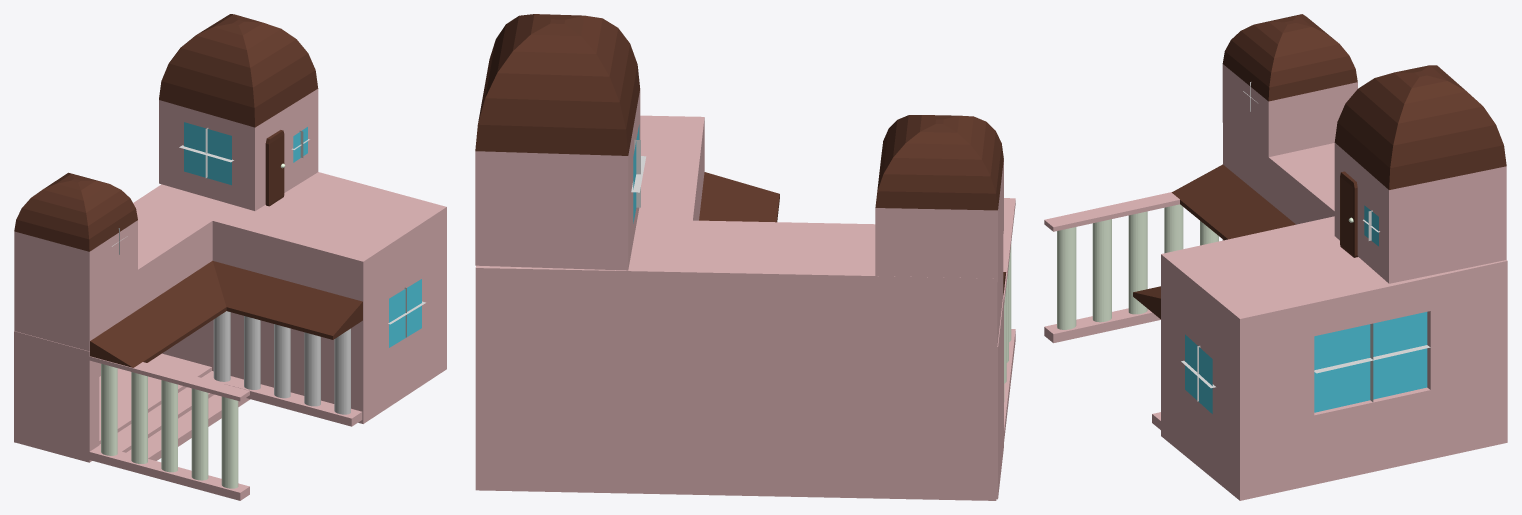
File: Extracteur bois.fbx
3 renders of one model, left to right at view 1: azimuth 30°, elevation 25°; view 2: azimuth 150°, elevation 25°; view 3: azimuth 270°, elevation 25°, orthographic. The views are drawn at different scales.
Parts seen in each view (by area): view 1: Collection 3|HouseMain.001|Dupli|23, Collection 3|Coupole.002|Dupli|, Collection 3|Coupole.003|Dupli|1, Collection 3|Cube.069|Dupli|11, Collection 3|Cube.070|Dupli|12, Collection 3|Cube.067|Dupli|9, Collection 3|Cube.058|Dupli|2, Collection 3|window z.009|Dupli|40, Collection 3|Cube.062|Dupli|4, Collection 3|Cube.068|Dupli|10, Collection 3|Cube.066|Dupli|8, Collection 3|Cube.065|Dupli|7 (+14 smaller); view 2: Collection 3|HouseMain.001|Dupli|23, Collection 3|Plane.001|Dupli|24, Collection 3|Coupole.002|Dupli|, Collection 3|Cube.069|Dupli|11, Collection 3|Coupole.003|Dupli|1, Collection 3|Cube.070|Dupli|12, Collection 3|Cube.058|Dupli|2, Collection 3|Cube.065|Dupli|7; view 3: Collection 3|HouseMain.001|Dupli|23, Collection 3|Coupole.002|Dupli|, Collection 3|Coupole.003|Dupli|1, Collection 3|window z.007|Dupli|38, Collection 3|Cube.069|Dupli|11, Collection 3|Cube.067|Dupli|9, Collection 3|Cylinder.017|Dupli|19, Collection 3|Cylinder.018|Dupli|20, Collection 3|Cube.065|Dupli|7, Collection 3|Cylinder.019|Dupli|21, Collection 3|Cube.068|Dupli|10, Collection 3|window z.006|Dupli|37 (+3 smaller).
Part boxes in pixels (box(x1,y1,x2,y2)): Collection 3|HouseMain.001|Dupli|23: box(140, 172, 446, 423); Collection 3|Coupole.002|Dupli|: box(159, 14, 318, 210); Collection 3|Coupole.003|Dupli|1: box(14, 172, 137, 304); Collection 3|Cube.069|Dupli|11: box(14, 198, 214, 351); Collection 3|Cube.070|Dupli|12: box(14, 331, 99, 462); Collection 3|Cube.067|Dupli|9: box(90, 261, 226, 367); Collection 3|Cube.058|Dupli|2: box(213, 261, 362, 339); Collection 3|window z.009|Dupli|40: box(184, 122, 231, 185); Collection 3|Cube.062|Dupli|4: box(99, 353, 211, 444); Collection 3|Cube.068|Dupli|10: box(89, 447, 249, 500); Collection 3|Cube.066|Dupli|8: box(211, 375, 362, 426); Collection 3|Cube.065|Dupli|7: box(89, 356, 249, 401); Collection 3|HouseMain.001|Dupli|23: box(475, 115, 704, 493); Collection 3|Plane.001|Dupli|24: box(648, 317, 996, 500); Collection 3|Coupole.002|Dupli|: box(475, 14, 640, 270); Collection 3|Cube.069|Dupli|11: box(680, 220, 1003, 356); Collection 3|Coupole.003|Dupli|1: box(875, 115, 1003, 282); Collection 3|Cube.070|Dupli|12: box(973, 295, 1003, 499); Collection 3|Cube.058|Dupli|2: box(699, 172, 779, 222); Collection 3|Cube.065|Dupli|7: box(1003, 198, 1015, 304); Collection 3|HouseMain.001|Dupli|23: box(1161, 216, 1507, 500); Collection 3|Coupole.002|Dupli|: box(1334, 65, 1506, 283); Collection 3|Coupole.003|Dupli|1: box(1222, 14, 1357, 159); Collection 3|window z.007|Dupli|38: box(1314, 312, 1427, 412); Collection 3|Cube.069|Dupli|11: box(1223, 123, 1334, 224); Collection 3|Cube.067|Dupli|9: box(1172, 164, 1295, 240); Collection 3|Cylinder.017|Dupli|19: box(1057, 227, 1076, 329); Collection 3|Cylinder.018|Dupli|20: box(1092, 219, 1111, 322); Collection 3|Cube.065|Dupli|7: box(1044, 192, 1179, 231); Collection 3|Cylinder.019|Dupli|21: box(1128, 211, 1147, 314); Collection 3|Cube.068|Dupli|10: box(1044, 308, 1160, 343); Collection 3|window z.006|Dupli|37: box(1185, 334, 1212, 413).
Size of the model in its own units: 516 by 393 by 462.
